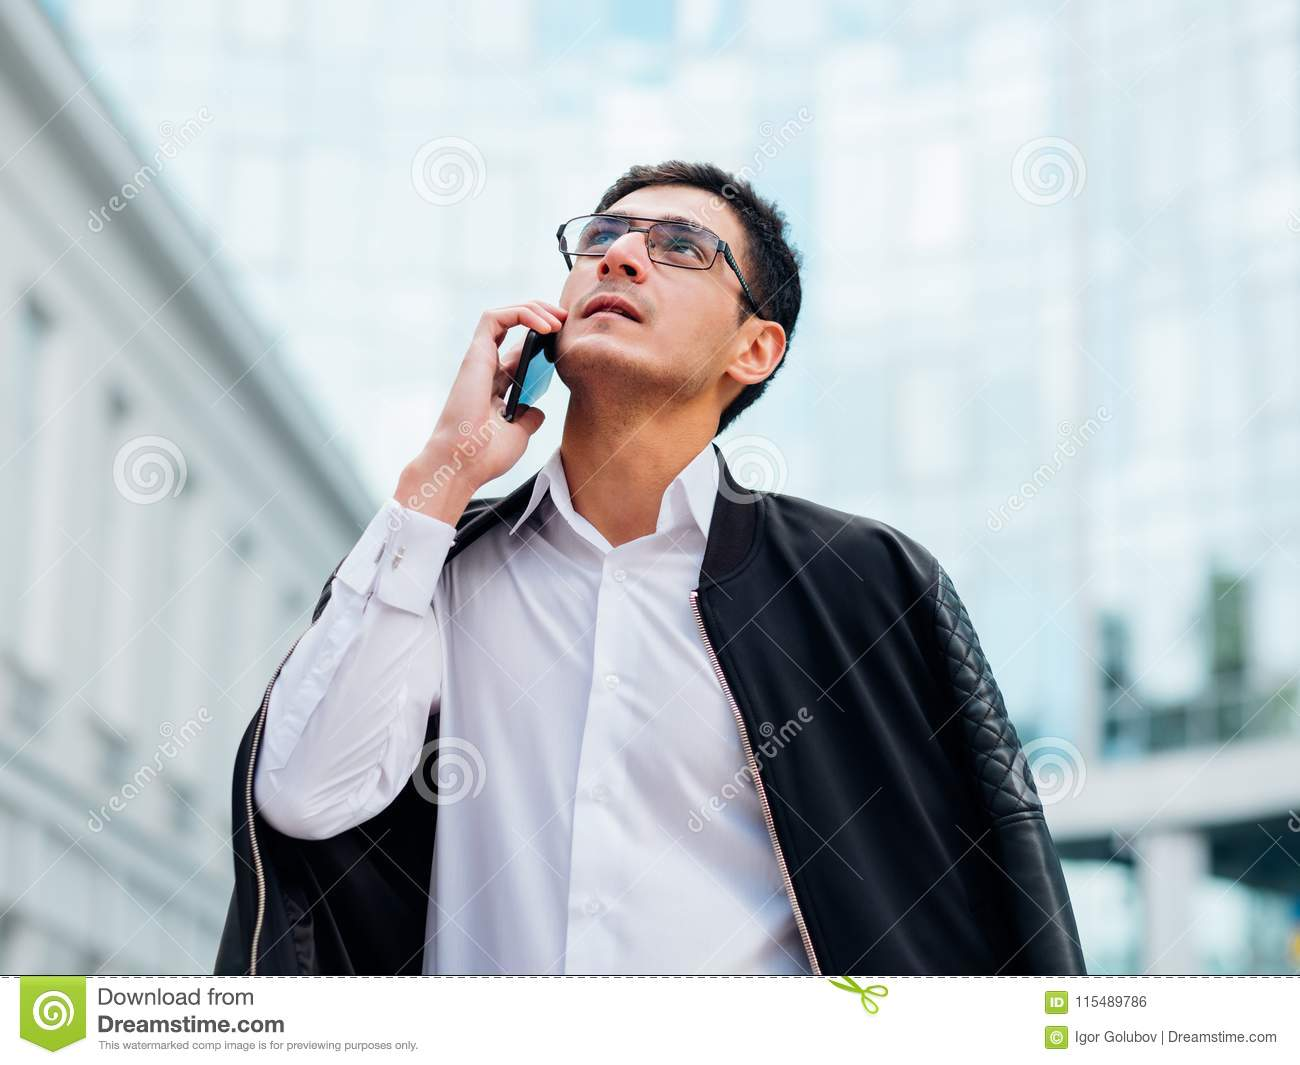phone: (507, 310, 557, 435)
talk: (439, 200, 722, 487)
